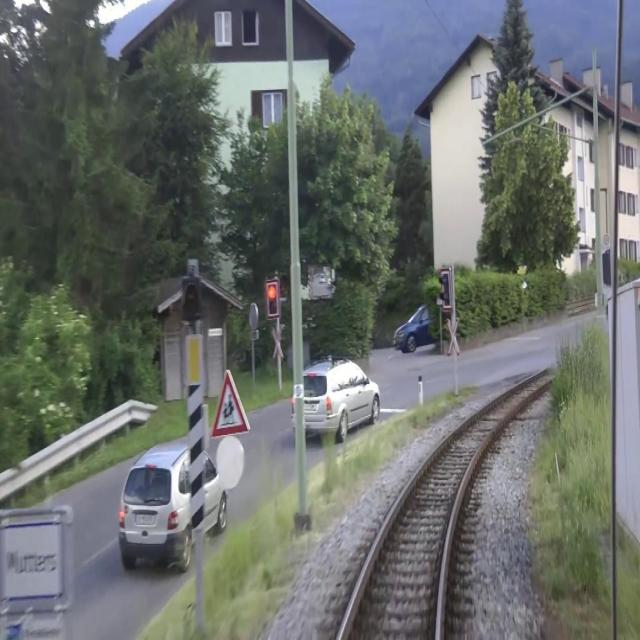rail-track: (343, 370, 551, 639)
